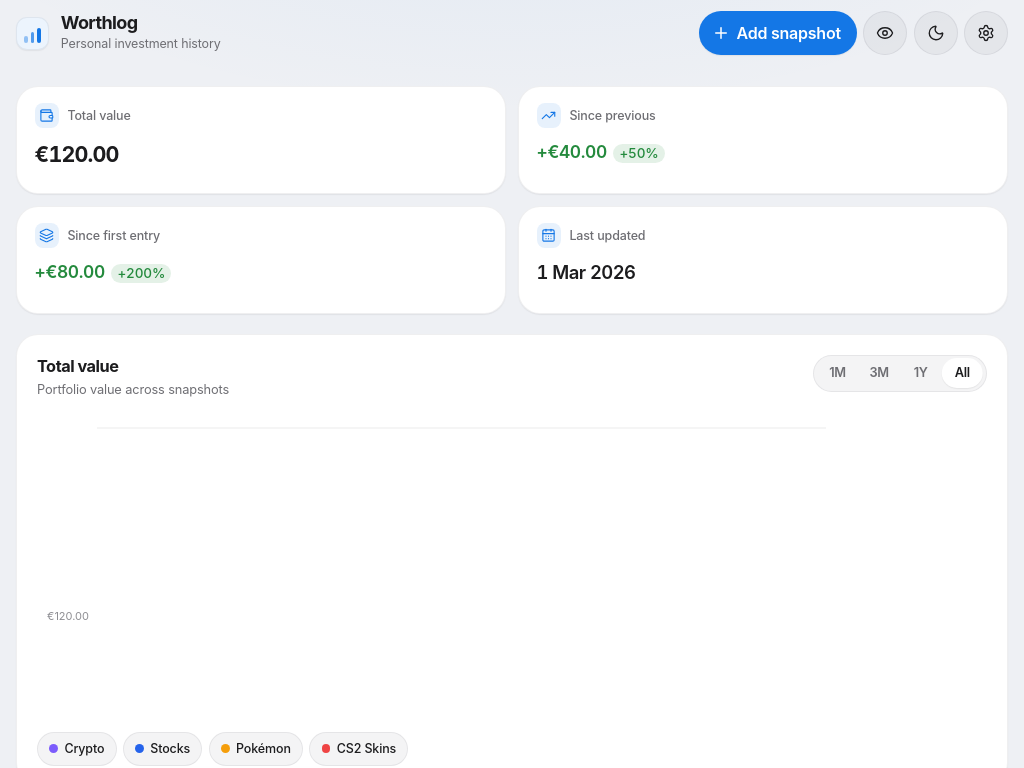
Test case: responsive layout › keeps modal accessible on mobile
Click the button "Add snapshot".
click(778, 33)  # box [699,11,857,55]
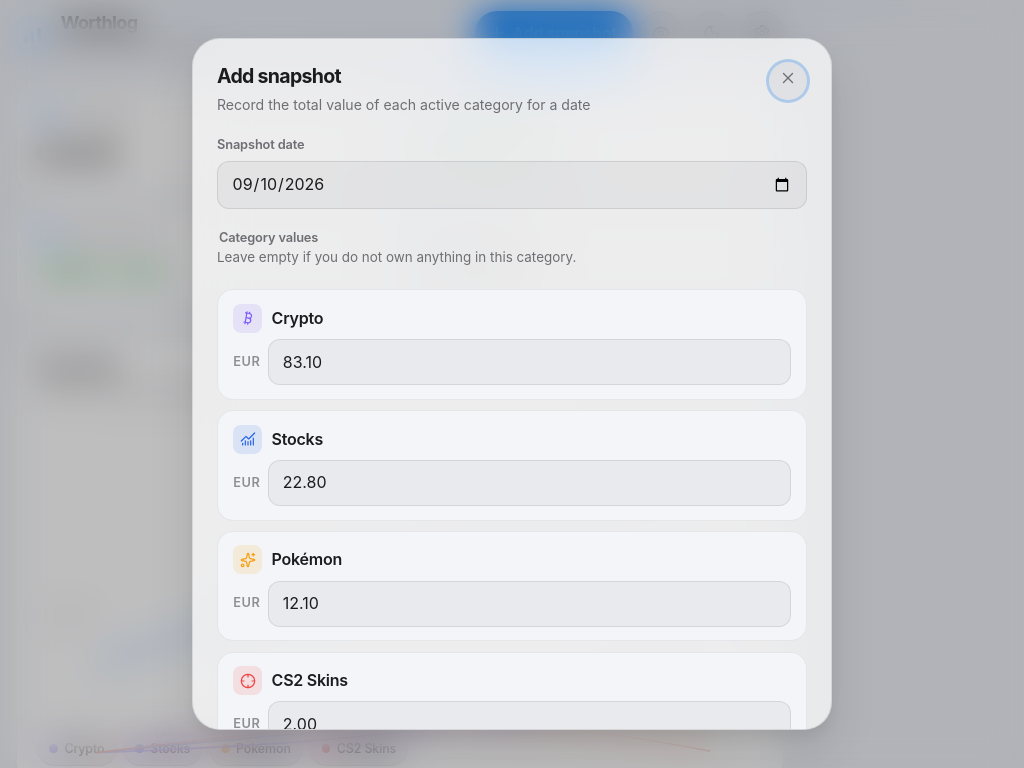
Expected: the button named "Close snapshot dialog" is shown, [769,63,807,100]
